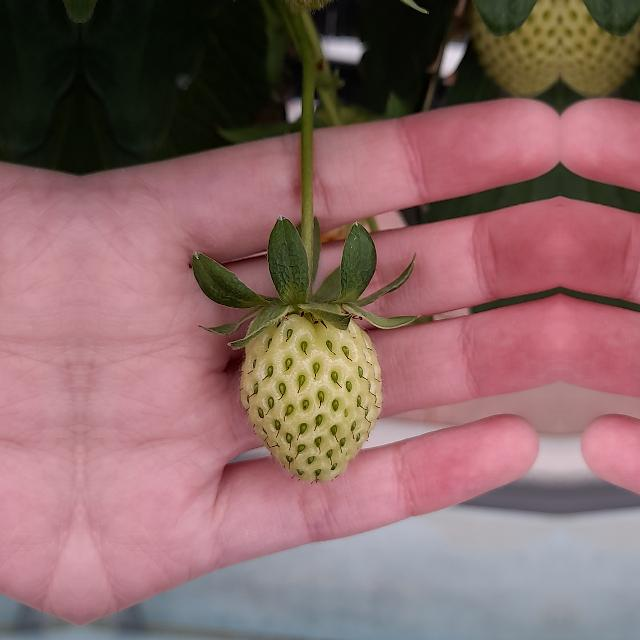Health_25: (240, 314, 382, 482)
